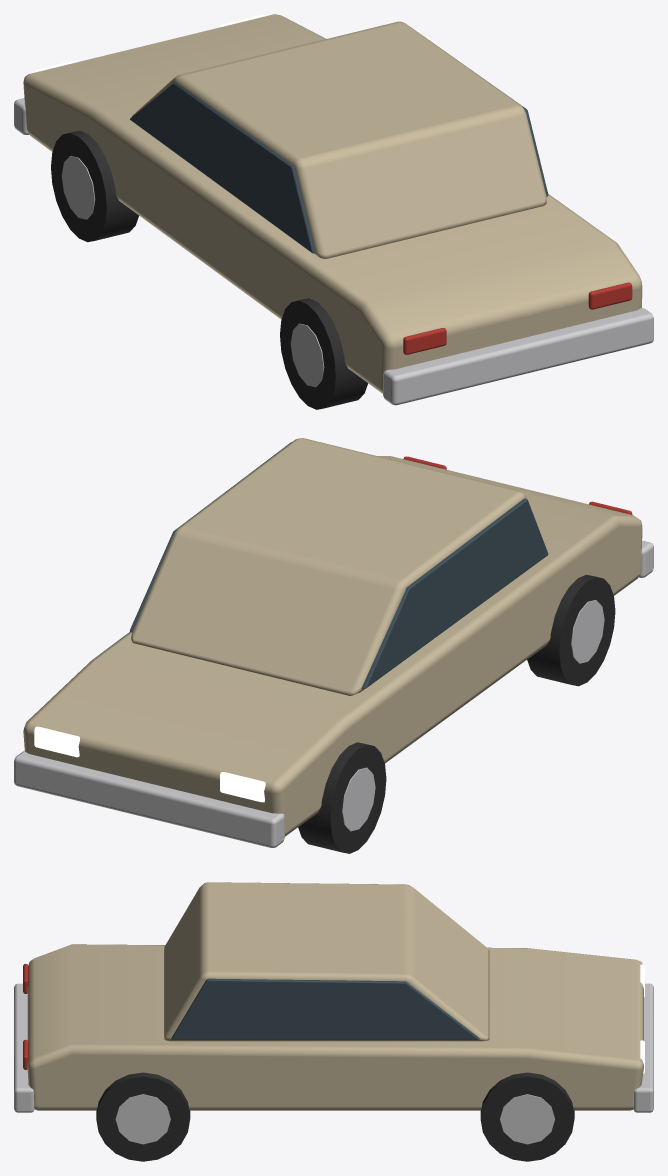
File: car_4.glb
The picture shows the model from 3 angles, top to bottom: view 1: azimuth 30°, elevation 25°; view 2: azimuth 150°, elevation 25°; view 3: azimuth 270°, elevation 25°; orthographic projection. The views are drawn at different scales.
Visible parts, largest first — view 1: Body, Cabin, Windows, BumperR, Wheel, Wheel.001, Hub.001, Hub, Taillight.001, Taillight; view 2: Body, Cabin, Windows, BumperF, Wheel, Wheel.001, Hub.001, Hub, Headlight.001, Headlight; view 3: Body, Cabin, Windows, Wheel.003, Wheel.002, Hub.002, Hub.003, BumperR, BumperF.
Part boxes in pixels (bbox=[...]): Body: bbox=[23, 14, 642, 393]; Cabin: bbox=[131, 21, 546, 258]; Windows: bbox=[130, 60, 548, 253]; BumperR: bbox=[383, 308, 653, 405]; Wheel: bbox=[280, 298, 367, 409]; Wheel.001: bbox=[51, 130, 138, 242]; Hub.001: bbox=[61, 156, 95, 219]; Hub: bbox=[290, 323, 324, 387]; Taillight.001: bbox=[588, 282, 632, 309]; Taillight: bbox=[403, 328, 446, 354]; Body: bbox=[23, 456, 642, 836]; Cabin: bbox=[131, 438, 526, 695]; Windows: bbox=[130, 442, 548, 688]; BumperF: bbox=[14, 751, 284, 847]; Wheel: bbox=[527, 574, 615, 686]; Wheel.001: bbox=[298, 742, 386, 853]; Hub.001: bbox=[342, 767, 375, 831]; Hub: bbox=[571, 600, 604, 663]; Headlight.001: bbox=[34, 726, 79, 757]; Headlight: bbox=[220, 772, 265, 802]; Body: bbox=[27, 944, 643, 1110]; Cabin: bbox=[164, 882, 489, 1041]; Windows: bbox=[171, 978, 479, 1039]; Wheel.003: bbox=[480, 1072, 574, 1161]; Wheel.002: bbox=[96, 1072, 190, 1161]; Hub.002: bbox=[115, 1094, 170, 1144]; Hub.003: bbox=[500, 1094, 554, 1144]; BumperR: bbox=[14, 983, 34, 1112]; BumperF: bbox=[633, 983, 653, 1112].
Bounding box in the file's own units: 1.97 × 1.42 × 4.63.
